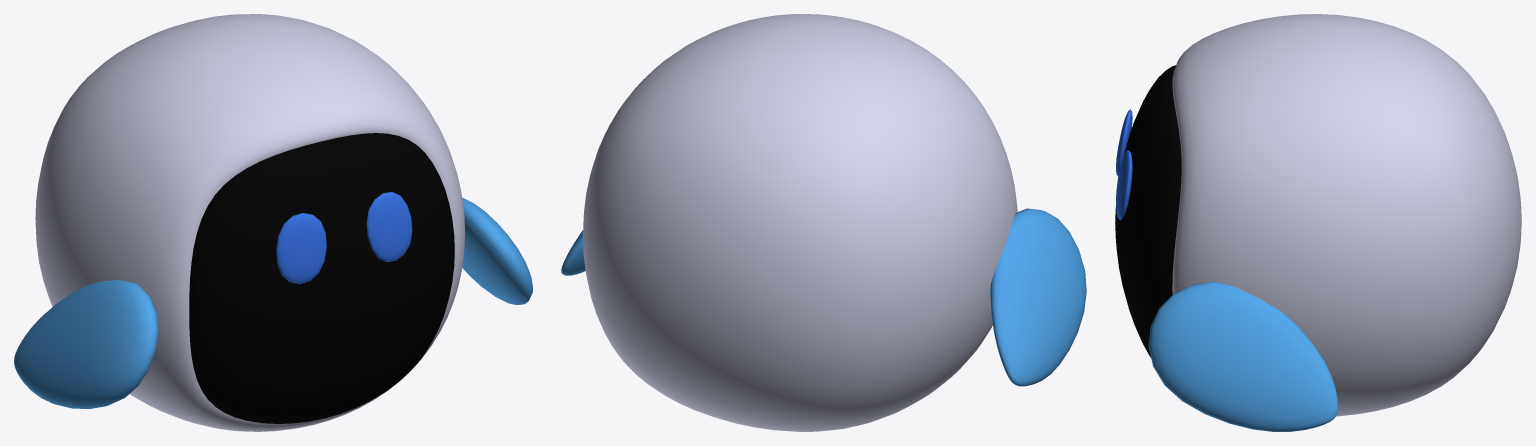
Rendered from Robot.fbx.
3 renders of one model, left to right at view 1: azimuth 30°, elevation 25°; view 2: azimuth 150°, elevation 25°; view 3: azimuth 270°, elevation 25°, orthographic. The views are drawn at different scales.
Parts seen in each view (by area): view 1: Cube.011, Cube.012, Cube.013, Cube.014; view 2: Cube.011, Cube.013; view 3: Cube.011, Cube.013, Cube.012, Cube.014.
Boxes of the visible parts, left/top/right/bottom form: Cube.011: left=35, top=14, right=465, bottom=431; Cube.012: left=189, top=133, right=454, bottom=423; Cube.013: left=14, top=197, right=532, bottom=409; Cube.014: left=276, top=192, right=412, bottom=283; Cube.011: left=583, top=14, right=1017, bottom=431; Cube.013: left=561, top=208, right=1086, bottom=386; Cube.011: left=1172, top=14, right=1521, bottom=416; Cube.013: left=1148, top=281, right=1338, bottom=431; Cube.012: left=1115, top=65, right=1181, bottom=357; Cube.014: left=1116, top=109, right=1132, bottom=220.
Bounding box in the file's own units: 26.54 × 19.69 × 20.54.
